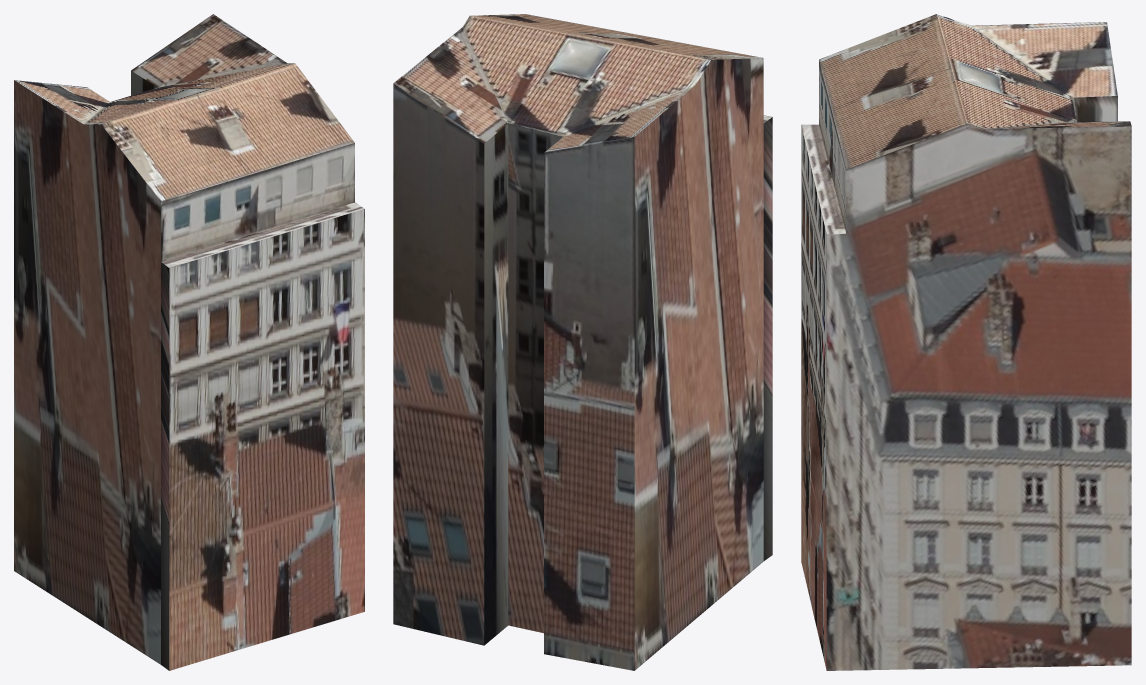
The picture shows the model from 3 angles, left to right: view 1: azimuth 30°, elevation 25°; view 2: azimuth 150°, elevation 25°; view 3: azimuth 270°, elevation 25°; orthographic projection. The views are drawn at different scales.
Visible parts, largest first — view 1: Z_UP; view 2: Z_UP; view 3: Z_UP.
Boxes of the visible parts, box(x1,y1,x2,y2) form: Z_UP: box(14, 14, 364, 670); Z_UP: box(393, 14, 772, 670); Z_UP: box(801, 14, 1131, 670).
Size of the model in its own units: 12.84 by 27.87 by 15.33.
2 materials, 1 textured.
